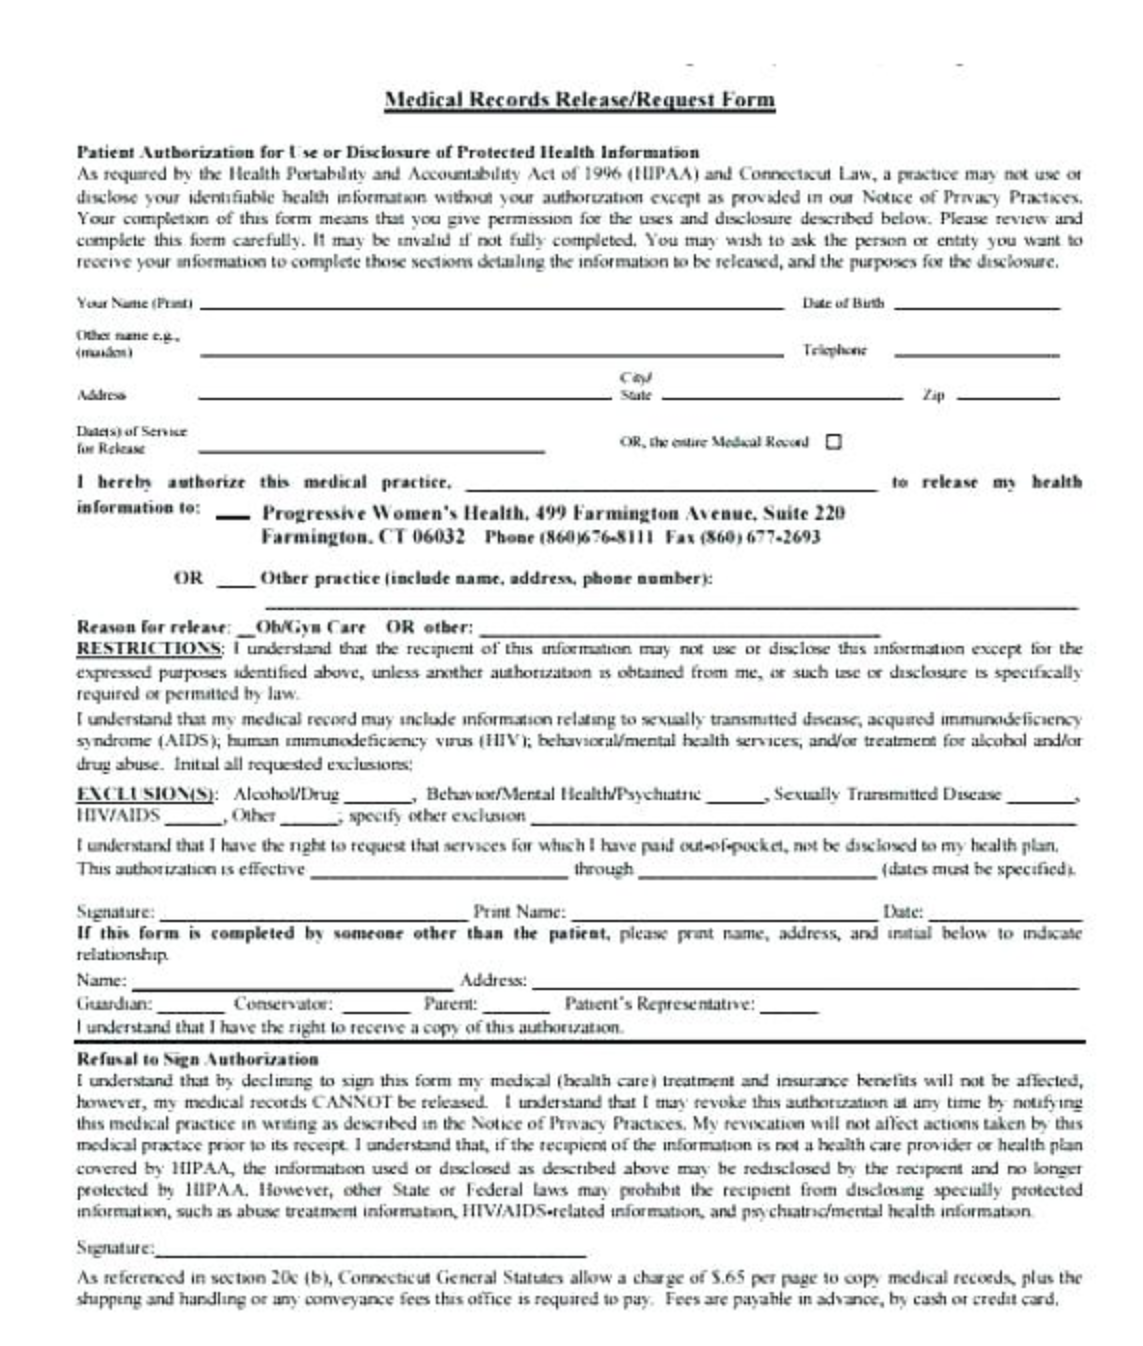checkbox: (818, 425, 850, 463)
textline: (259, 594, 1087, 620), (528, 804, 1079, 839), (197, 290, 794, 318), (155, 1225, 602, 1261), (198, 338, 799, 364), (526, 970, 1087, 996), (475, 620, 886, 647), (192, 383, 619, 405), (462, 474, 882, 496), (127, 966, 459, 993), (188, 437, 558, 460), (300, 863, 577, 894), (153, 900, 477, 925), (661, 381, 911, 413), (635, 860, 888, 887), (564, 907, 882, 926), (894, 336, 1059, 365), (894, 298, 1074, 316), (925, 911, 1092, 926), (947, 389, 1068, 407), (337, 1000, 421, 1019), (277, 813, 354, 833), (705, 789, 774, 811), (757, 1002, 827, 1024), (161, 811, 234, 830), (337, 791, 414, 809), (208, 574, 264, 596), (156, 1000, 237, 1016), (1005, 793, 1087, 807), (472, 1002, 561, 1016), (210, 500, 255, 526)
